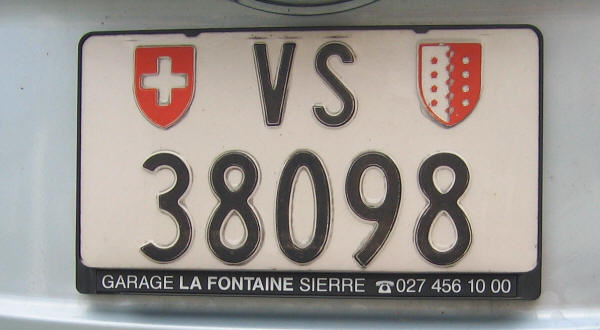license_plate: (76, 24, 542, 300)
